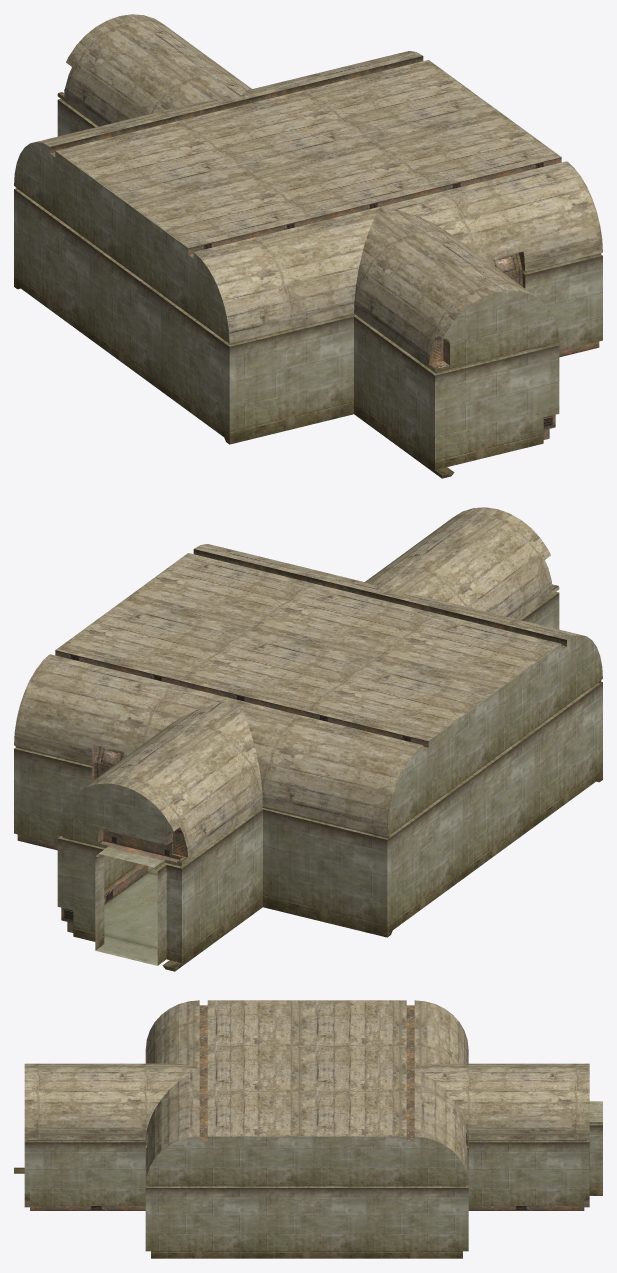
File: poi_all_bunker_allum_mine_r19_smallroom_68_mesh_r19.fbx
3 views of the same model, one above another, from view 1: azimuth 30°, elevation 25°; view 2: azimuth 150°, elevation 25°; view 3: azimuth 270°, elevation 25° (orthographic). The views are drawn at different scales.
Parts seen in each view (by area): view 1: mesh_node; view 2: mesh_node; view 3: mesh_node.
Boxes of the visible parts, bbox=[...] form: mesh_node: bbox=[14, 14, 602, 478]; mesh_node: bbox=[14, 507, 602, 971]; mesh_node: bbox=[14, 1000, 602, 1258].
Size of the model in its own units: 12 by 5.1 by 21.9.
